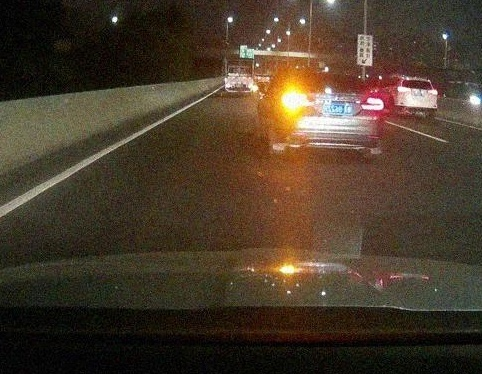L_light: (281, 94, 308, 108), (396, 86, 410, 93)
R_light: (360, 97, 385, 111), (427, 89, 437, 95)
T_light: (321, 74, 338, 78), (413, 79, 422, 82)
night-left: (275, 72, 386, 160)
night-no: (394, 76, 438, 116)
